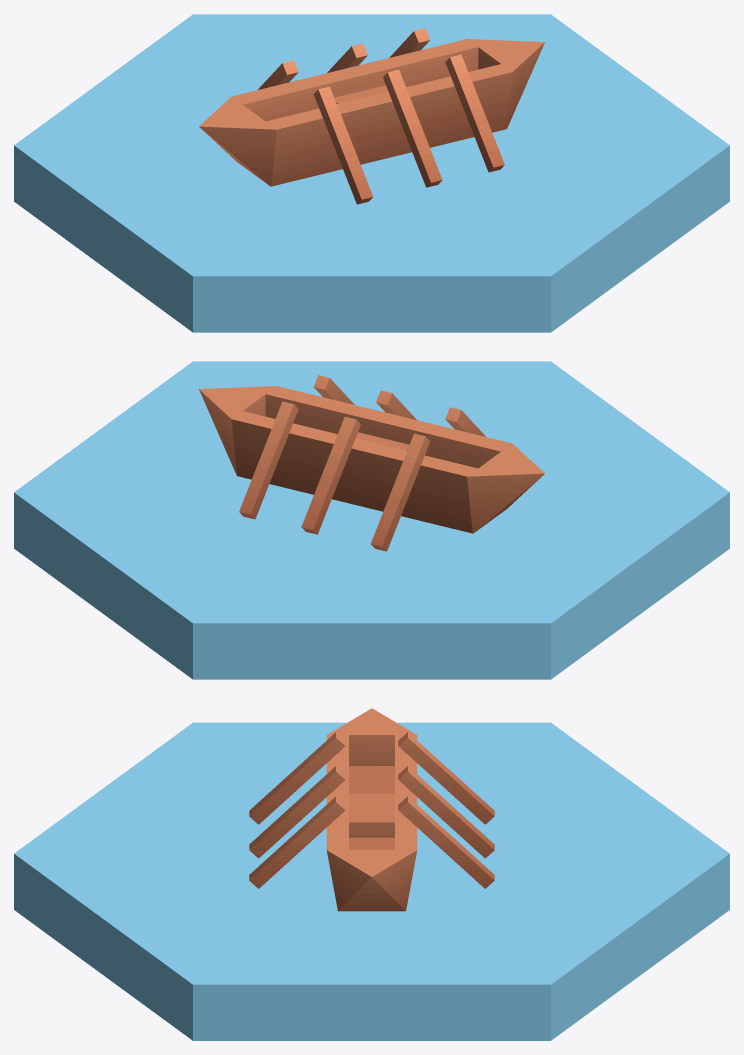
The model's file is water-ship.glb.
3 views of the same model, one above another, from view 1: azimuth 30°, elevation 25°; view 2: azimuth 150°, elevation 25°; view 3: azimuth 270°, elevation 25° (orthographic).
Parts seen in each view (by area): view 1: water, unit-ship; view 2: water, unit-ship; view 3: water, unit-ship.
Boxes of the visible parts, x1,y1,x2,y2 form: water: [14, 14, 729, 332]; unit-ship: [199, 28, 544, 204]; water: [14, 361, 729, 679]; unit-ship: [199, 375, 544, 551]; water: [14, 722, 729, 1040]; unit-ship: [249, 708, 494, 911].
Size of the model in its own units: 1 by 0.2543 by 1.15.
1 material, 1 textured.
